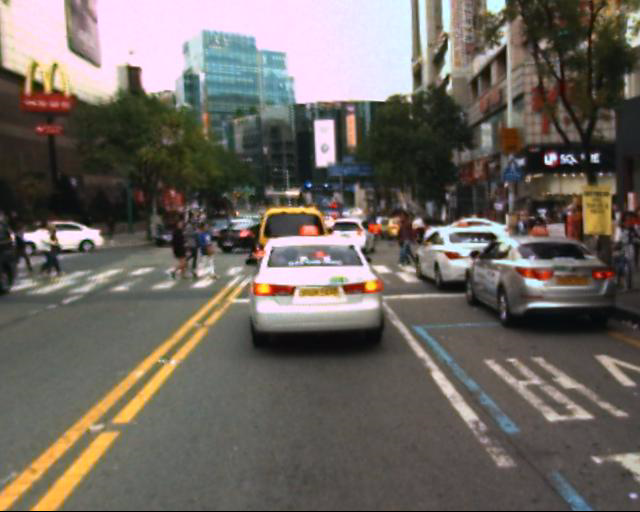person: (33, 212, 79, 285), (162, 210, 198, 286), (391, 207, 427, 278), (188, 215, 222, 285), (612, 196, 635, 297)
